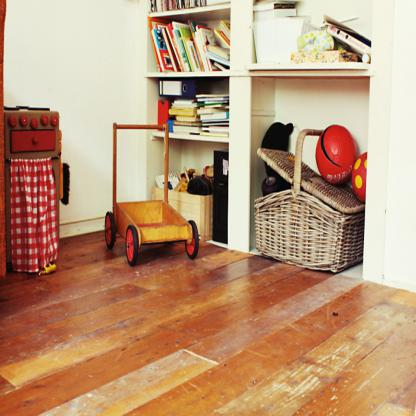Ball: (315, 127, 356, 185), (353, 152, 368, 198)
